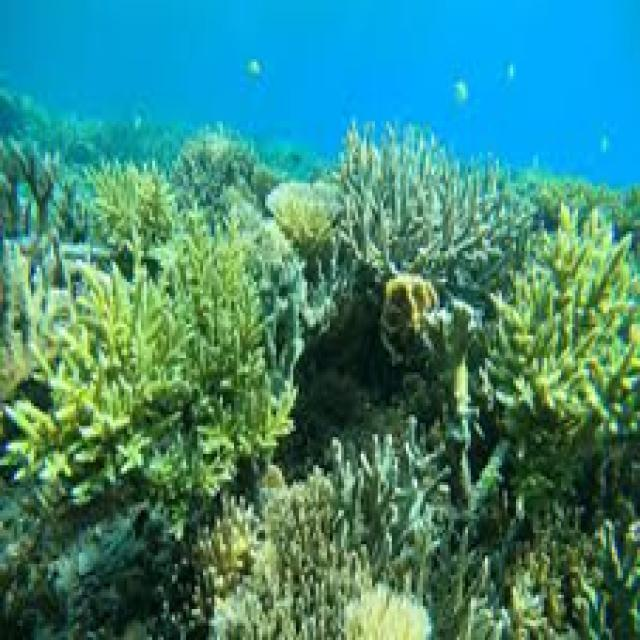Bleached: (347, 136, 494, 271), (235, 472, 334, 640), (346, 439, 446, 587), (332, 591, 427, 640)
Healthy: (9, 368, 284, 491), (496, 216, 640, 423), (54, 274, 189, 366), (181, 235, 255, 364), (94, 166, 170, 239), (381, 275, 439, 335), (278, 205, 335, 245)
